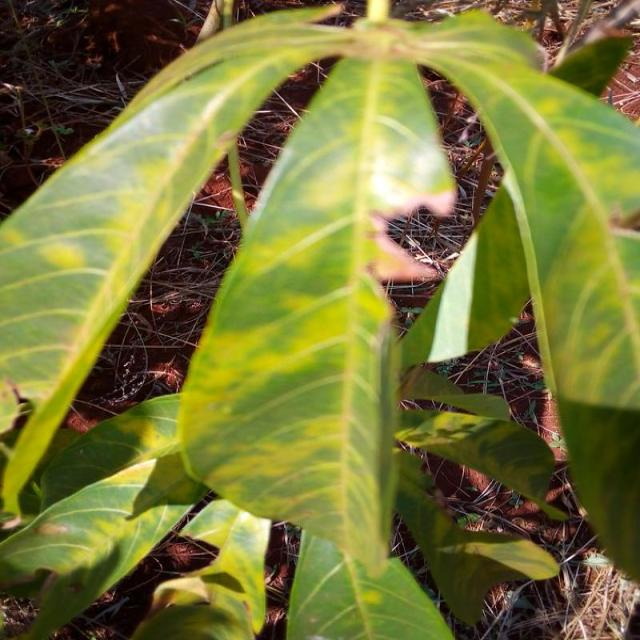cassava leaf: (2, 2, 639, 633), (176, 30, 458, 578)
